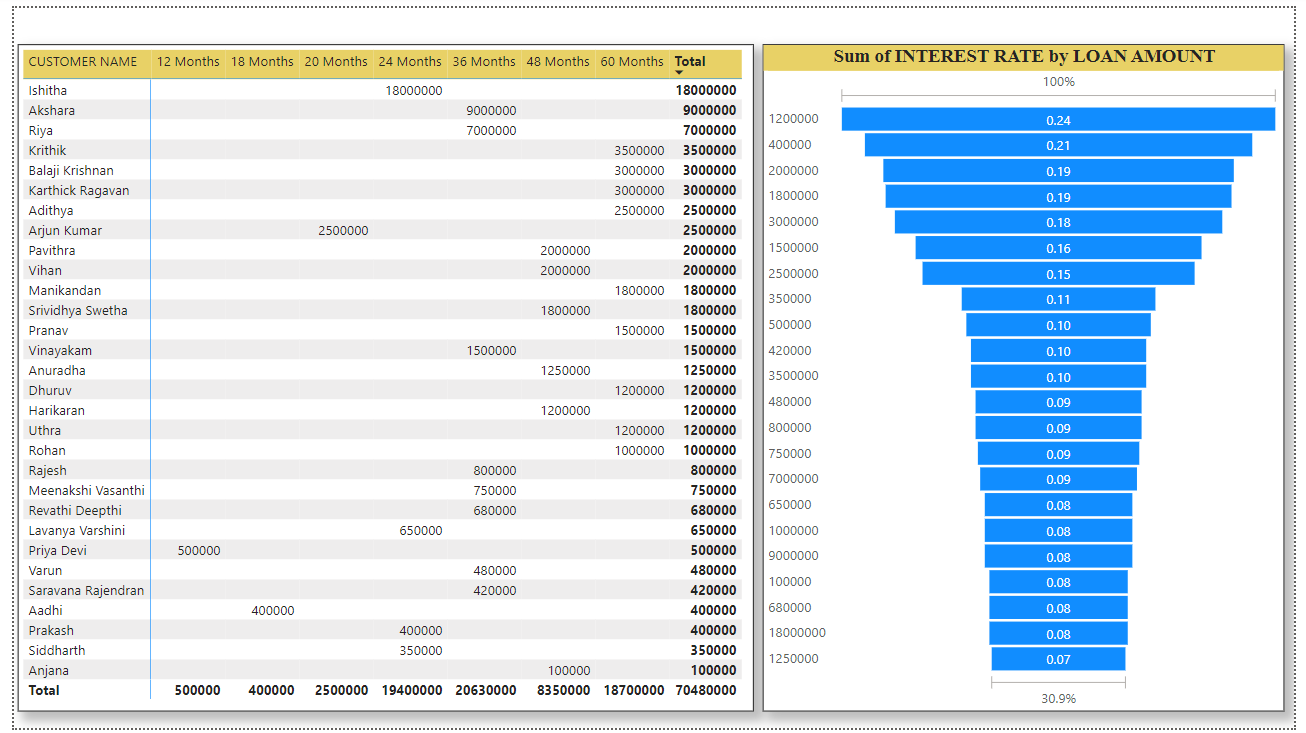

This screenshot's page, from the dashboard's own definition file:
{"tool":"powerbi","page":{"name":"Page 2","canvas":[1280,720],"ordinal":2},"visuals":[{"type":"pivotTable","fields":{"Rows":["Customer Data.CUSTOMER NAME"],"Values":["Sum(Loan Data.LOAN AMOUNT)"],"Columns":["Loan Data.LOAN TERM","Loan Data.LOAN TYPE"]},"box":[3.7,36.7,735.9,667.4],"z":0},{"type":"funnel","title":"Sum of INTEREST RATE by LOAN AMOUNT","fields":{"Category":["Loan Data.LOAN AMOUNT"],"Y":["Sum(Loan Data.INTEREST RATE)"]},"box":[749.3,36.7,522,667.4],"z":1000}]}

Visuals, with their boxes in screenshot pixels (x1, y1, x2, y2), scaled from the page's 1280x720 canvas onto the 1306x733 screenshot:
pivotTable - Customer Data.CUSTOMER NAME x Sum(Loan Data.LOAN AMOUNT): bbox(4, 37, 755, 717)
"Sum of INTEREST RATE by LOAN AMOUNT" funnel: bbox(765, 37, 1297, 717)
